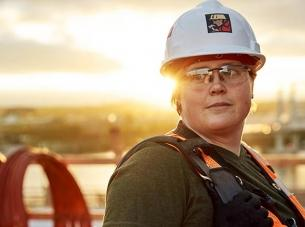helmet: (160, 1, 268, 80)
